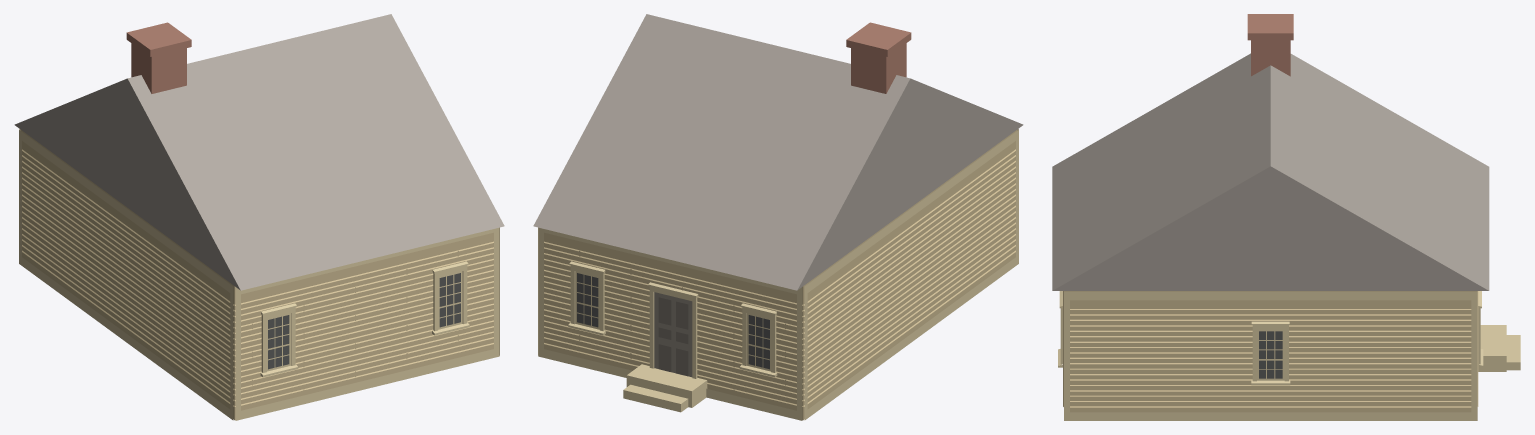
Rendered from recon_1835_blk_washington_dearborn_d4_09__inferred_1835.glb.
3 views of the same model, side by side, from view 1: azimuth 30°, elevation 25°; view 2: azimuth 150°, elevation 25°; view 3: azimuth 270°, elevation 25° (orthographic). The views are drawn at different scales.
Visible parts, largest first — view 1: recon_1835_blk_washington_dearborn_d4_09__inferred_1835; view 2: recon_1835_blk_washington_dearborn_d4_09__inferred_1835; view 3: recon_1835_blk_washington_dearborn_d4_09__inferred_1835.
Boxes of the visible parts, box(x1,y1,x2,y2) form: recon_1835_blk_washington_dearborn_d4_09__inferred_1835: box(14, 14, 504, 420); recon_1835_blk_washington_dearborn_d4_09__inferred_1835: box(533, 14, 1023, 420); recon_1835_blk_washington_dearborn_d4_09__inferred_1835: box(1052, 14, 1520, 420).
Bounding box in the file's own units: 6.41 × 6.74 × 9.97.
